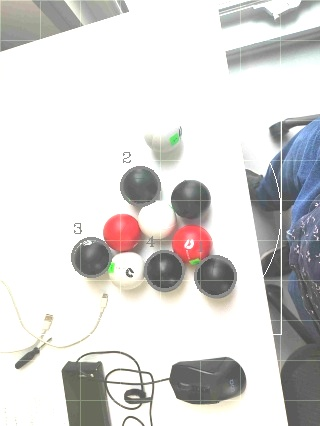Pelota blanca: (98, 347, 155, 408), (0, 278, 41, 355), (143, 110, 182, 152), (137, 201, 177, 240), (106, 252, 145, 291), (119, 414, 147, 425)
Pelota negra: (167, 355, 246, 405), (193, 254, 238, 299), (68, 236, 113, 280), (143, 249, 185, 294), (119, 164, 161, 208), (169, 177, 211, 219)
Pelota roja: (169, 222, 214, 264), (100, 212, 142, 251)
